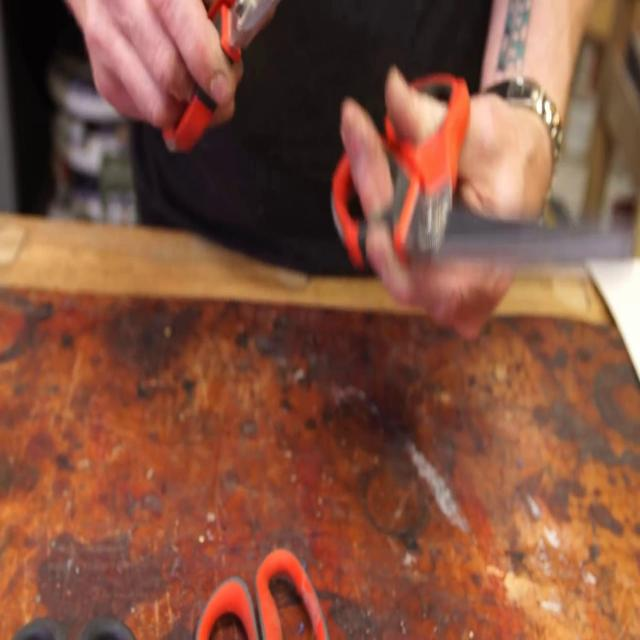scissor: (331, 71, 640, 269)
